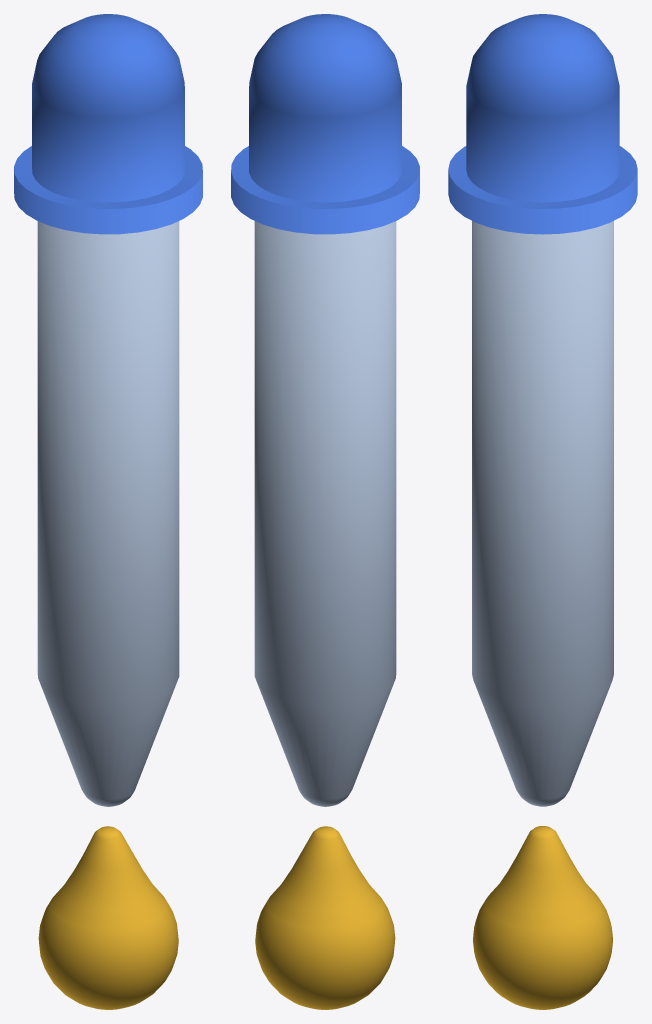
Rendered from science3.fbx.
3 renders of one model, left to right at view 1: azimuth 30°, elevation 25°; view 2: azimuth 150°, elevation 25°; view 3: azimuth 270°, elevation 25°, orthographic.
Parts seen in each view (by area): view 1: Sphere.001; view 2: Sphere.001; view 3: Sphere.001.
Boxes of the visible parts, x1=… form: Sphere.001: x1=14, y1=14, x2=202, y2=1009; Sphere.001: x1=231, y1=14, x2=419, y2=1009; Sphere.001: x1=448, y1=14, x2=637, y2=1009.
Bounding box in the file's own units: 38.25 × 218 × 38.25.
